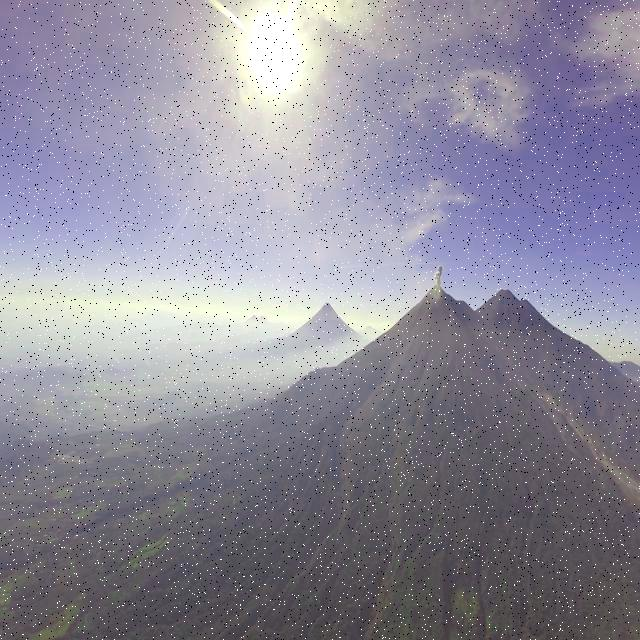Plume: (434, 264, 444, 286)
Summit: (420, 283, 455, 301)
